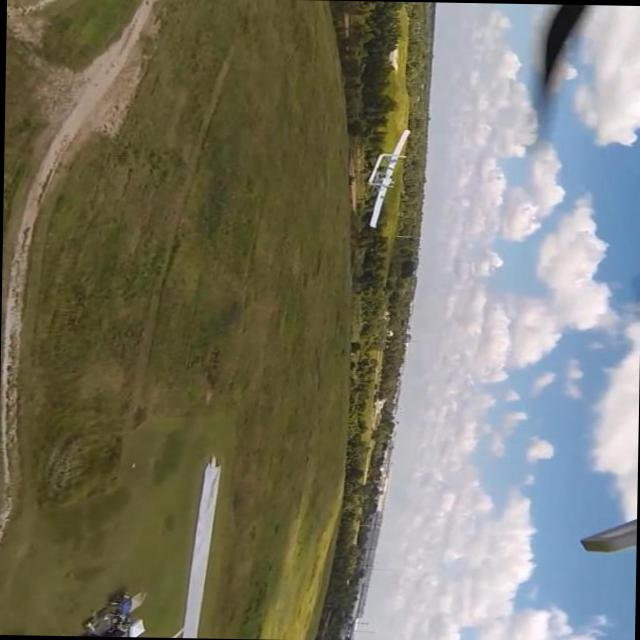UAV: (326, 121, 437, 256)
